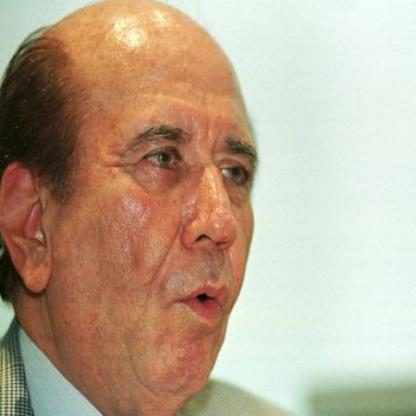face: (47, 2, 269, 408)
